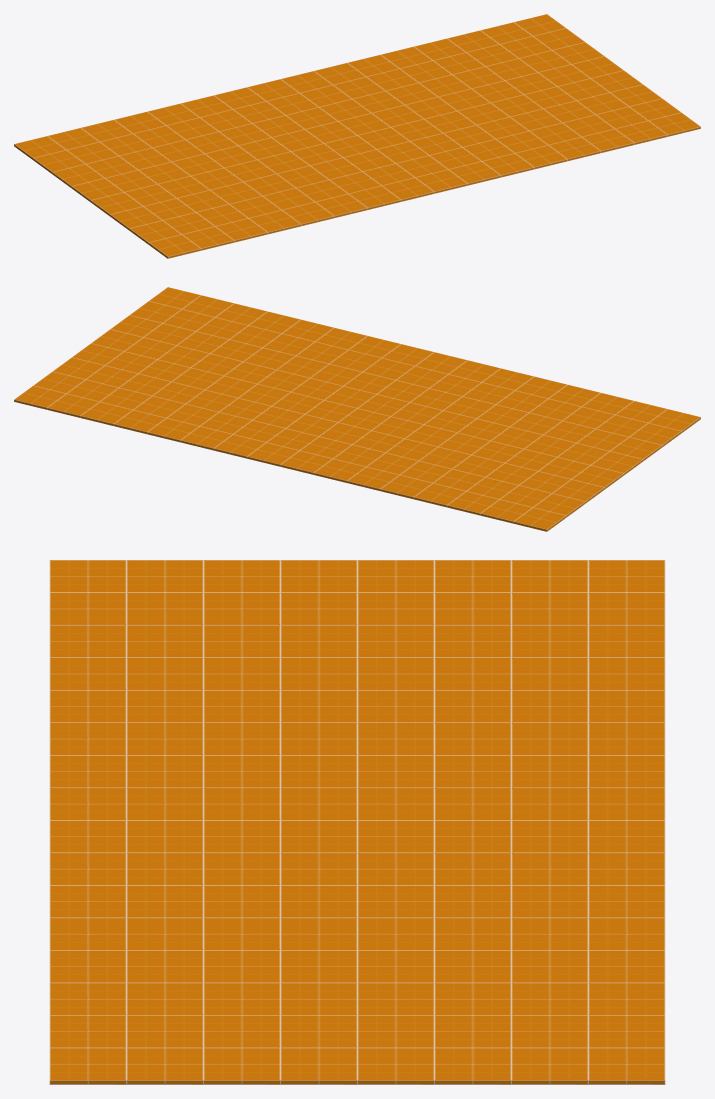
File: Plate16_16x8.obj
The picture shows the model from 3 angles, top to bottom: view 1: azimuth 30°, elevation 25°; view 2: azimuth 150°, elevation 25°; view 3: azimuth 270°, elevation 25°; orthographic projection. The views are drawn at different scales.
Visible parts, largest first — view 1: Plate16_16x8_Cube.463; view 2: Plate16_16x8_Cube.463; view 3: Plate16_16x8_Cube.463.
Part boxes in pixels (bbox=[...]): Plate16_16x8_Cube.463: bbox=[14, 14, 700, 258]; Plate16_16x8_Cube.463: bbox=[14, 287, 700, 531]; Plate16_16x8_Cube.463: bbox=[49, 560, 665, 1084].
Size of the model in its own units: 16 by 0.0625 by 8.
1 material, 1 textured.
